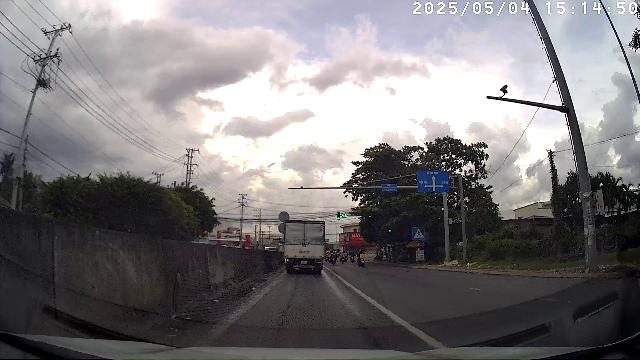423a-duong-nguoi-di-bo-sang-ngang-1: (412, 226, 425, 240)
